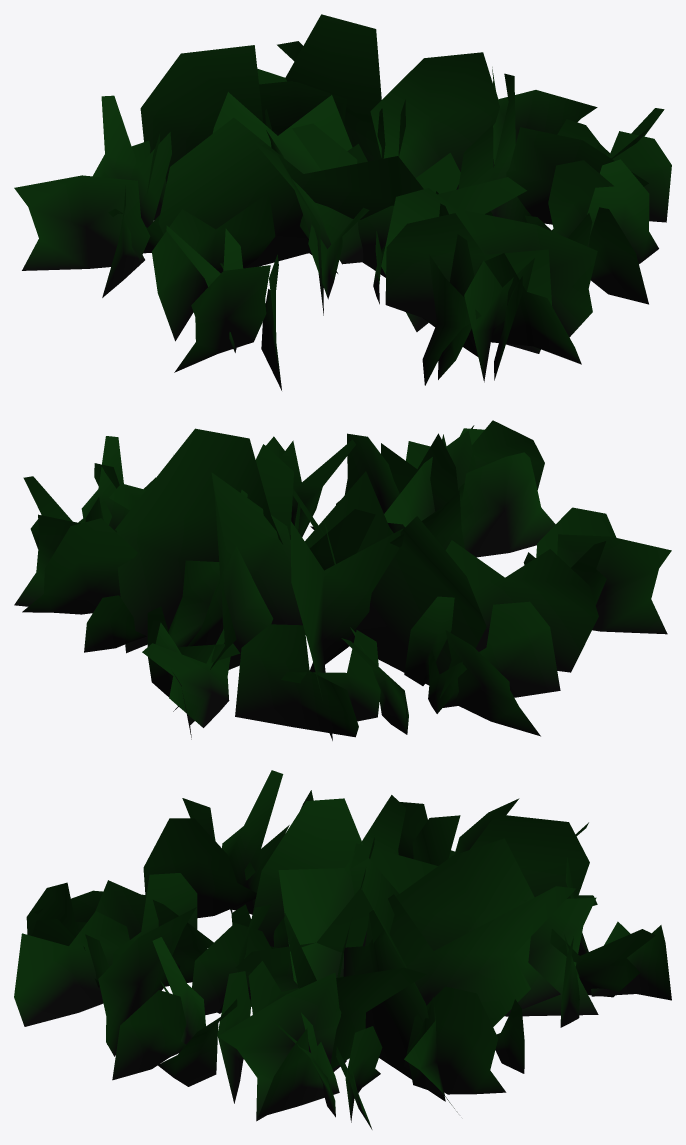
Rendered from FlowerGrassGCATA_B.fbx.
The picture shows the model from 3 angles, top to bottom: view 1: azimuth 30°, elevation 25°; view 2: azimuth 150°, elevation 25°; view 3: azimuth 270°, elevation 25°; orthographic projection.
Visible parts, largest first — view 1: FGGCATAB_LOD0; view 2: FGGCATAB_LOD0; view 3: FGGCATAB_LOD0.
Boxes of the visible parts, x1,y1,x2,y2 form: FGGCATAB_LOD0: [14, 14, 671, 390]; FGGCATAB_LOD0: [14, 420, 671, 740]; FGGCATAB_LOD0: [14, 770, 671, 1129].
Size of what is drawn, in the model's own units: 2.21 by 0.7559 by 2.18.
